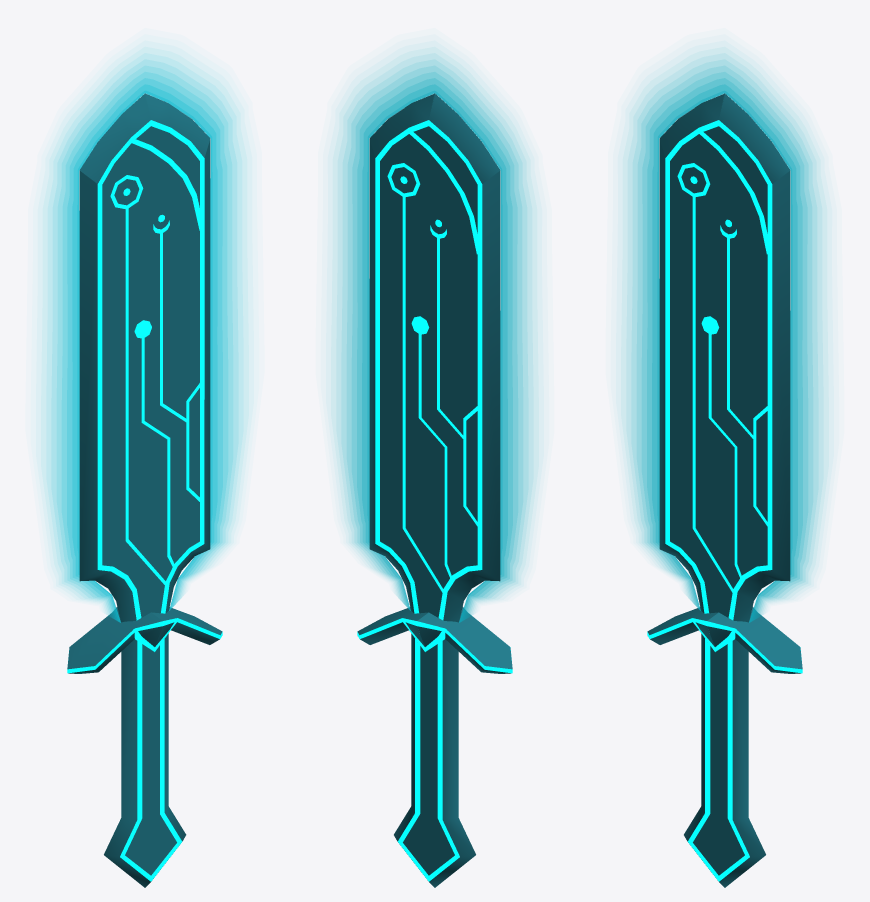
The model's file is 11-Neon.glb.
3 renders of one model, left to right at view 1: azimuth 30°, elevation 25°; view 2: azimuth 150°, elevation 25°; view 3: azimuth 330°, elevation 25°, orthographic.
Parts seen in each view (by area): view 1: a, b; view 2: b, a; view 3: a, b.
Part boxes in pixels (left/top/right/bottom): a: left=41, top=47, right=210, bottom=887; b: left=105, top=47, right=248, bottom=851; b: left=331, top=47, right=500, bottom=887; a: left=417, top=47, right=538, bottom=854; a: left=621, top=47, right=790, bottom=887; b: left=707, top=47, right=828, bottom=854.
Bounding box in the file's own units: 0.4748 × 1.51 × 0.1131.
Materials: 3 (1 with a texture image).
